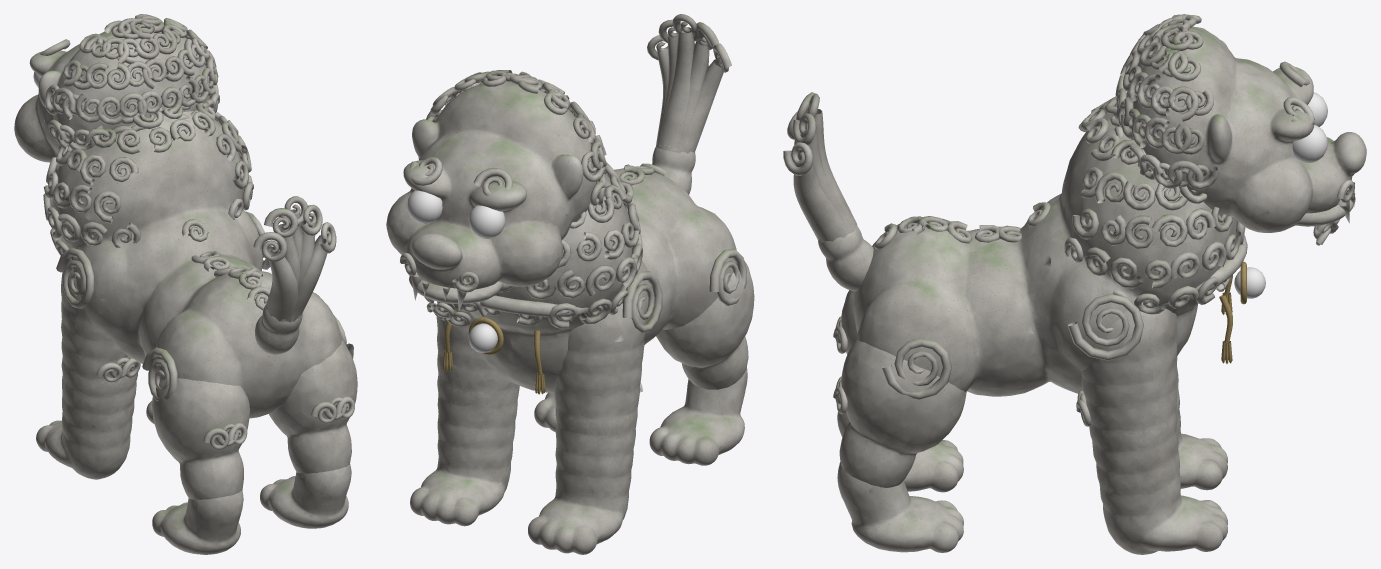
File: StoneLion.fbx
3 views of the same model, side by side, from view 1: azimuth 30°, elevation 25°; view 2: azimuth 150°, elevation 25°; view 3: azimuth 270°, elevation 25° (orthographic). The views are drawn at different scales.
Parts seen in each view (by area): view 1: StoneLion_Body, StoneLion_BodyCurls, StoneLion_HeadCurls, StoneLion_BackLeftUpper, StoneLion_Head, StoneLion_BackRightUpper, StoneLion_FrontLeftLower, StoneLion_TailCurls, StoneLion_FrontLeftUpper, StoneLion_BackRightLower, StoneLion_BackLeftLower, StoneLion_Tail; view 2: StoneLion_Head, StoneLion_Body, StoneLion_BodyCurls, StoneLion_FrontLeftLower, StoneLion_FrontRightLower, StoneLion_FrontLeftUpper, StoneLion_TailCurls, StoneLion_HeadCurls, StoneLion_BackLeftUpper, StoneLion_BackLeftLower, StoneLion_FrontRightUpper, StoneLion_Jaw (+4 smaller); view 3: StoneLion_Body, StoneLion_Head, StoneLion_BodyCurls, StoneLion_HeadCurls, StoneLion_BackRightUpper, StoneLion_FrontRightLower, StoneLion_FrontRightUpper, StoneLion_BackRightLower, StoneLion_TailCurls, StoneLion_FrontLeftLower, StoneLion_BackLeftLower, StoneLion_Tail (+3 smaller).
Boxes of the visible parts, <box> form: StoneLion_Body: <box>52,111,341,418</box>; StoneLion_BodyCurls: <box>43,102,353,401</box>; StoneLion_HeadCurls: <box>40,14,219,150</box>; StoneLion_BackLeftUpper: <box>152,378,249,499</box>; StoneLion_Head: <box>14,24,209,162</box>; StoneLion_BackRightUpper: <box>269,340,357,473</box>; StoneLion_FrontLeftLower: <box>36,362,137,479</box>; StoneLion_TailCurls: <box>253,196,336,322</box>; StoneLion_FrontLeftUpper: <box>61,259,140,396</box>; StoneLion_BackRightLower: <box>260,464,351,528</box>; StoneLion_BackLeftLower: <box>152,490,243,554</box>; StoneLion_Tail: <box>255,303,302,354</box>; StoneLion_Head: <box>386,81,595,289</box>; StoneLion_Body: <box>442,168,736,394</box>; StoneLion_BodyCurls: <box>452,163,746,332</box>; StoneLion_FrontLeftLower: <box>528,408,637,554</box>; StoneLion_FrontRightLower: <box>410,376,519,526</box>; StoneLion_FrontLeftUpper: <box>554,303,646,435</box>; StoneLion_TailCurls: <box>647,14,731,153</box>; StoneLion_HeadCurls: <box>400,70,606,311</box>; StoneLion_BackLeftUpper: <box>656,261,754,389</box>; StoneLion_BackLeftLower: <box>649,367,747,465</box>; StoneLion_FrontRightUpper: <box>436,301,518,407</box>; StoneLion_Jaw: <box>409,272,512,326</box>; StoneLion_Body: <box>853,113,1246,396</box>; StoneLion_Head: <box>1126,26,1366,232</box>; StoneLion_BodyCurls: <box>874,96,1247,399</box>; StoneLion_HeadCurls: <box>1113,14,1354,223</box>; StoneLion_BackRightUpper: <box>833,339,966,487</box>; StoneLion_FrontRightLower: <box>1089,412,1227,554</box>; StoneLion_FrontRightUpper: <box>1076,303,1177,450</box>; StoneLion_BackRightLower: <box>837,462,963,552</box>; StoneLion_TailCurls: <box>783,92,857,242</box>; StoneLion_FrontLeftLower: <box>1176,356,1227,490</box>; StoneLion_BackLeftLower: <box>837,412,963,492</box>; StoneLion_Tail: <box>818,226,873,291</box>.
Size of the model in its own units: 16.09 by 34.45 by 36.66.
Materials: 17 (15 with a texture image).
